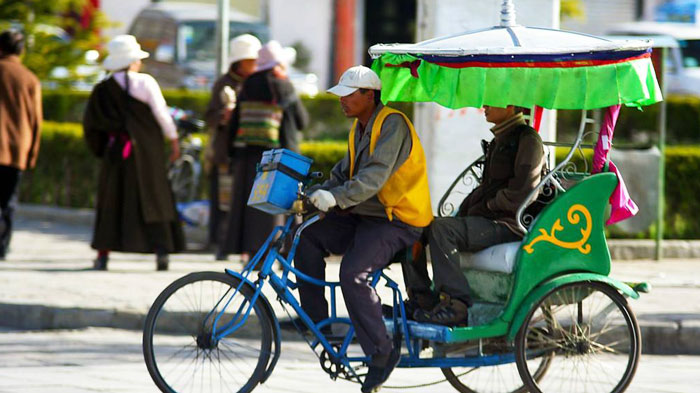handle bar: (253, 158, 336, 196)
wheel: (136, 268, 293, 393), (512, 272, 646, 393), (432, 298, 560, 393)
